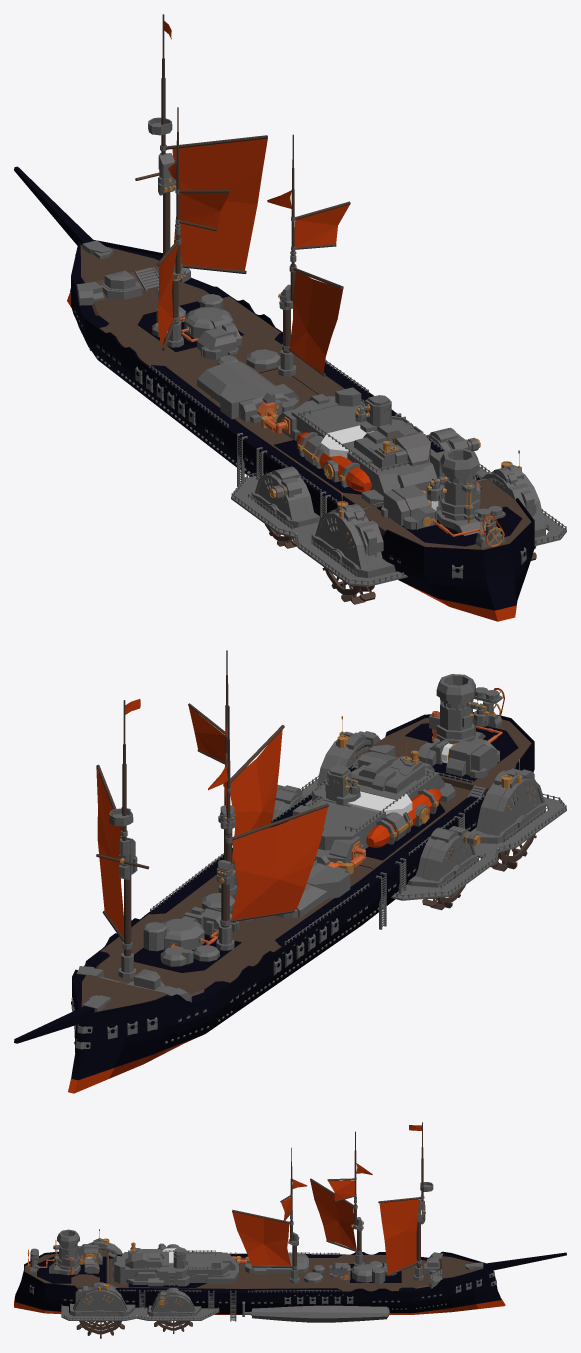
File: ShipStuffApplied.fbx
3 views of the same model, one above another, from view 1: azimuth 30°, elevation 25°; view 2: azimuth 150°, elevation 25°; view 3: azimuth 270°, elevation 25° (orthographic). The views are drawn at different scales.
Parts seen in each view (by area): view 1: Hull, Deck, Plane, Cube.017, Cube.029, Plane.005, Platform, Cube.090, Deck.001, Cylinder.043, Plane.006, Plane.002 (+13 smaller); view 2: Hull, Deck, Plane.001, Cube.017, Cube.029, Plane.005, Platform, Plane, Cube.090, Deck.001, Cube.079, Plane.006 (+17 smaller); view 3: Hull, Deck, Cube.017, Plane, Plane.005, Boiler, Plane.001, Cube.029, Cube.090, Platform, Cube.079, Deck.001 (+10 smaller).
Boxes of the visible parts, bbox=[...] form: Hull: bbox=[67, 239, 534, 621]; Deck: bbox=[80, 244, 378, 507]; Plane: bbox=[172, 138, 267, 270]; Cube.017: bbox=[311, 450, 545, 604]; Cube.029: bbox=[251, 427, 480, 548]; Plane.005: bbox=[289, 272, 342, 373]; Platform: bbox=[231, 466, 566, 586]; Cube.090: bbox=[291, 396, 437, 495]; Deck.001: bbox=[363, 479, 531, 549]; Cylinder.043: bbox=[197, 361, 289, 417]; Plane.006: bbox=[294, 204, 349, 246]; Plane.002: bbox=[179, 193, 229, 228]; Hull: bbox=[68, 712, 534, 1093]; Deck: bbox=[81, 786, 471, 1011]; Plane.001: bbox=[231, 807, 327, 919]; Cube.017: bbox=[317, 716, 545, 871]; Cube.029: bbox=[272, 785, 480, 910]; Plane.005: bbox=[230, 730, 282, 862]; Platform: bbox=[232, 778, 566, 900]; Plane: bbox=[96, 768, 123, 937]; Cube.090: bbox=[289, 767, 444, 850]; Deck.001: bbox=[356, 718, 531, 793]; Cube.079: bbox=[405, 723, 518, 782]; Plane.006: bbox=[188, 706, 225, 761]; Hull: bbox=[14, 1251, 505, 1314]; Deck: bbox=[109, 1254, 479, 1291]; Cube.017: bbox=[70, 1229, 135, 1338]; Plane: bbox=[379, 1199, 418, 1274]; Plane.005: bbox=[232, 1211, 290, 1265]; Boiler: bbox=[252, 1305, 389, 1322]; Plane.001: bbox=[310, 1180, 356, 1249]; Cube.029: bbox=[148, 1243, 201, 1333]; Cube.090: bbox=[112, 1252, 229, 1282]; Platform: bbox=[61, 1305, 219, 1320]; Cube.079: bbox=[37, 1256, 106, 1283]; Deck.001: bbox=[24, 1251, 109, 1289].
Size of the model in its own units: 1014 by 1564 by 3953.
